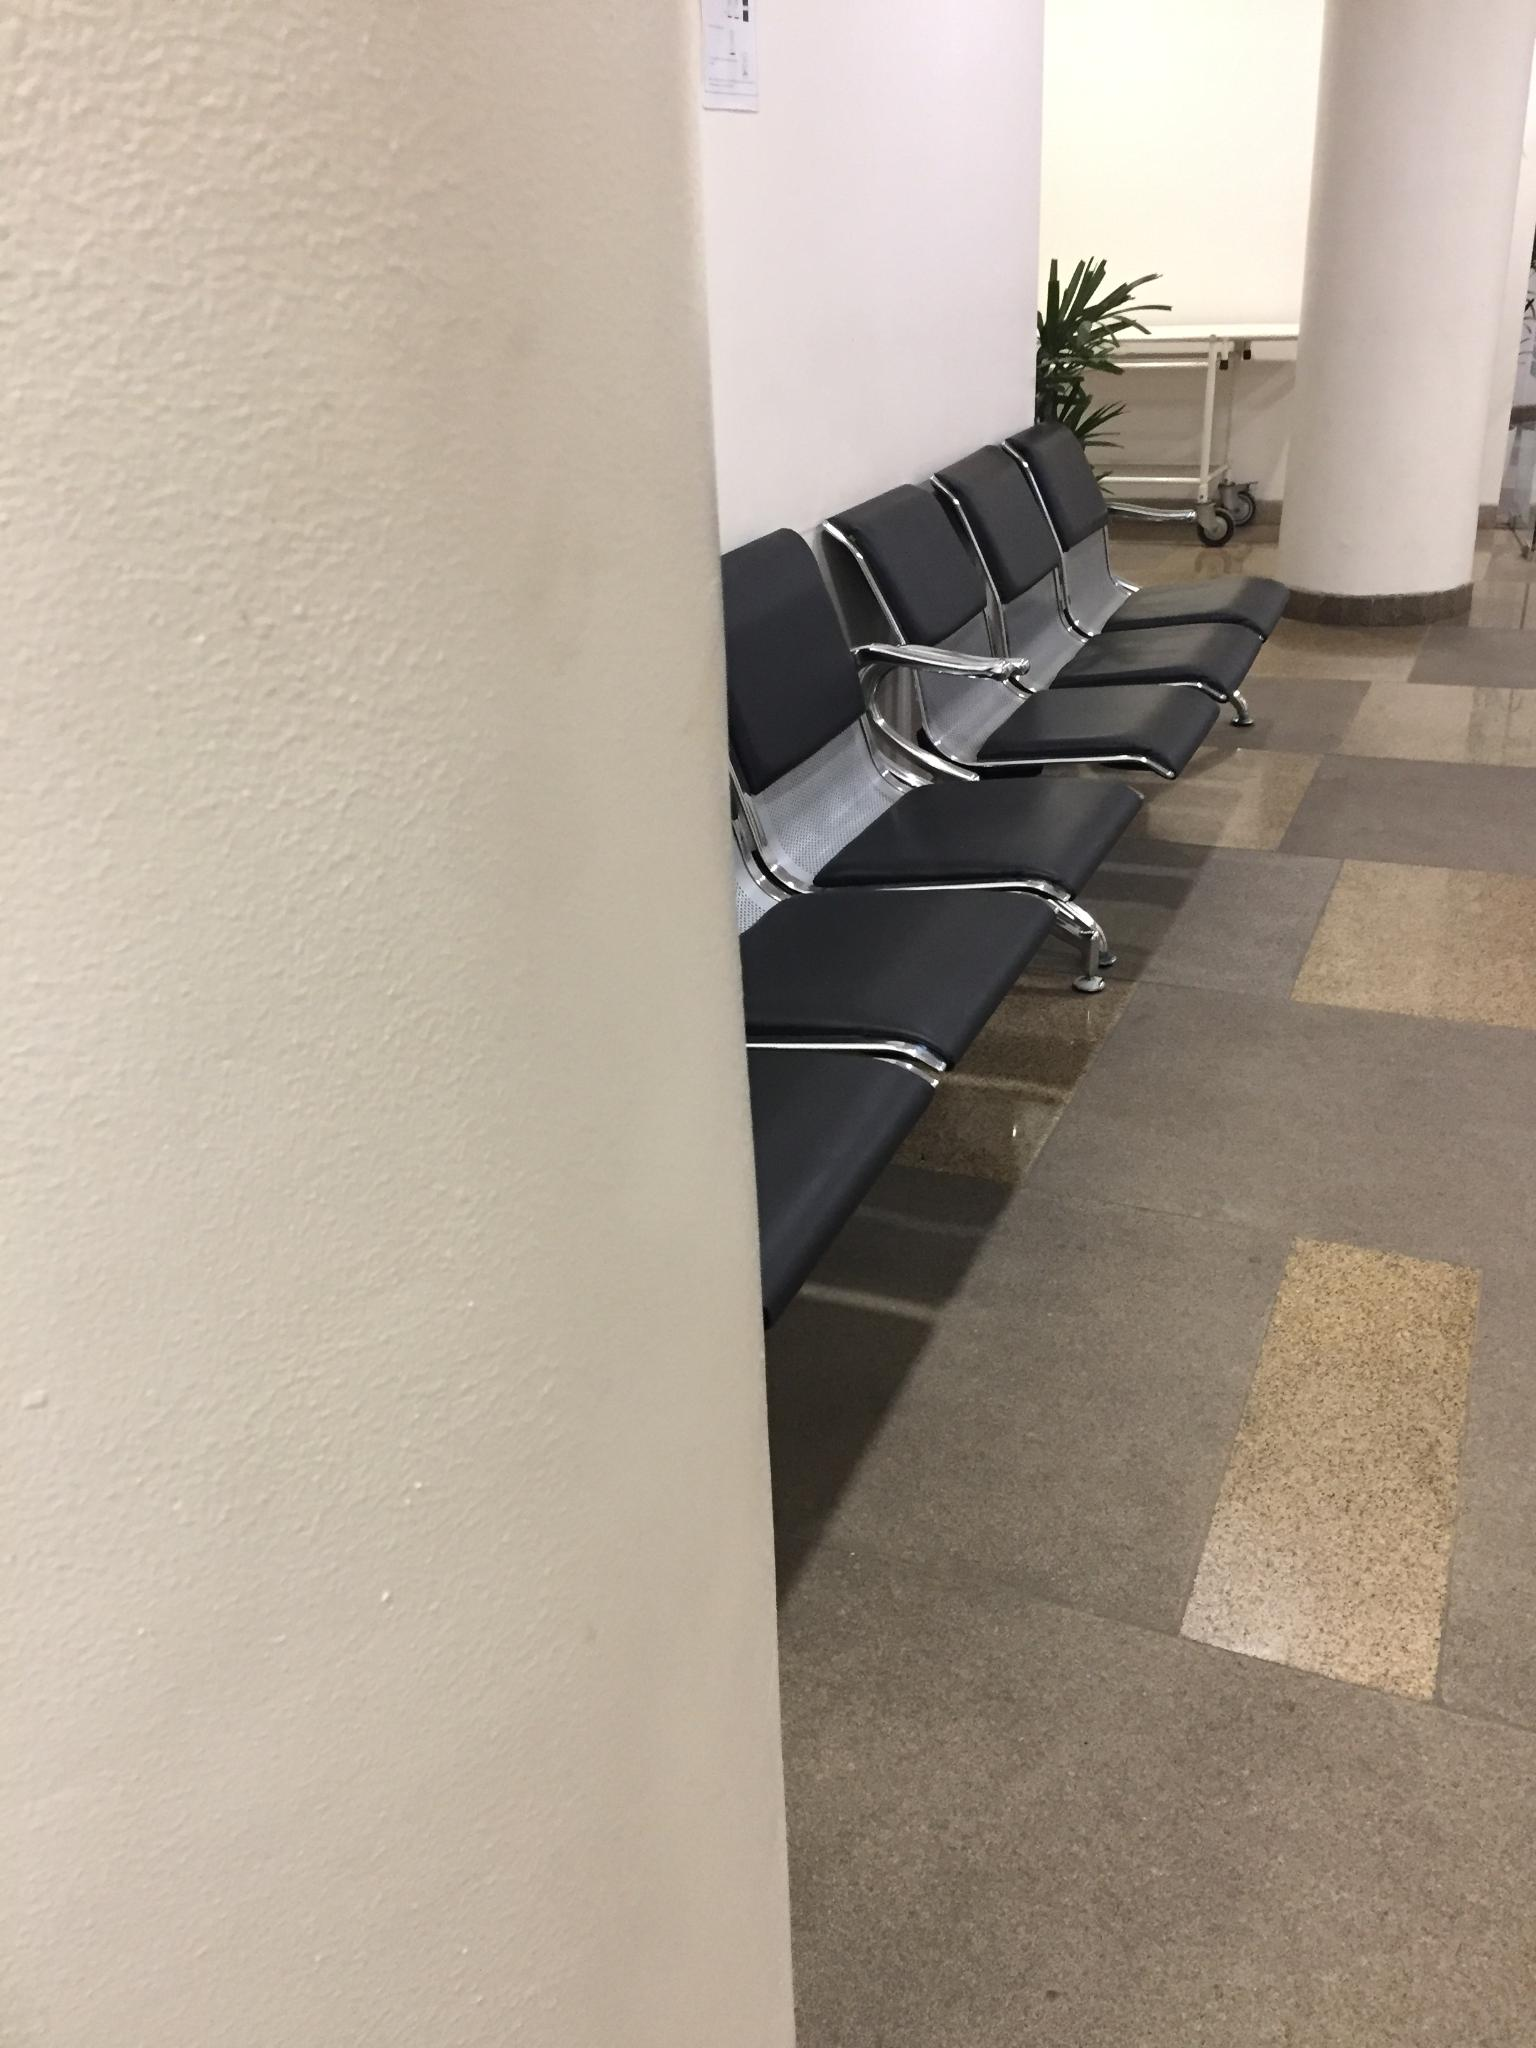chair: (179, 1037, 1012, 1327), (721, 526, 1147, 993), (891, 384, 1355, 755)
